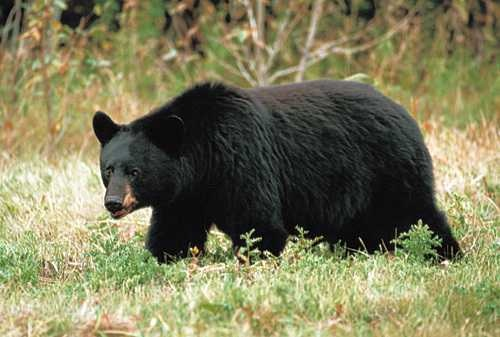bear: (72, 99, 200, 227)
